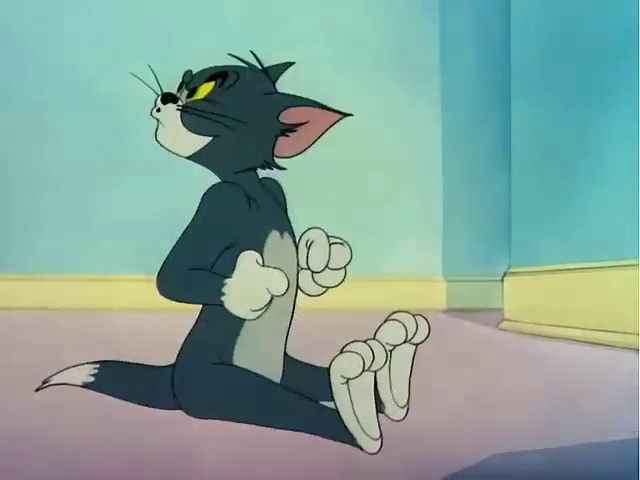tom: (35, 27, 453, 466)
